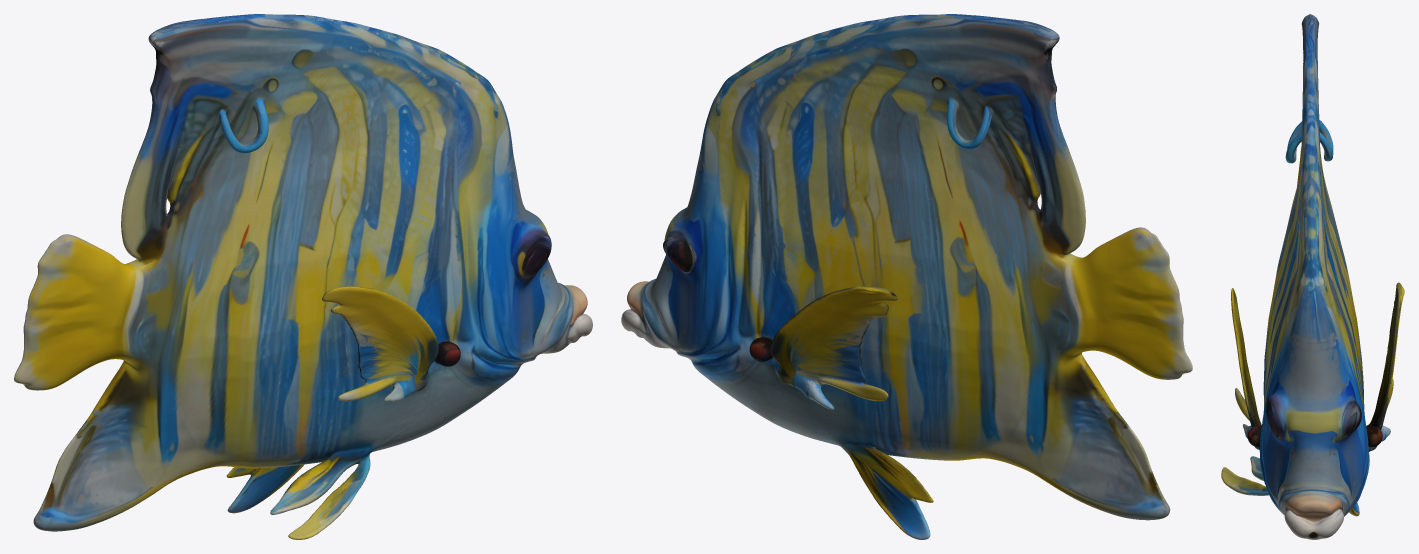
The model's file is trop_angel.glb.
3 renders of one model, left to right at view 1: azimuth 30°, elevation 25°; view 2: azimuth 150°, elevation 25°; view 3: azimuth 270°, elevation 25°, orthographic. The views are drawn at different scales.
Parts seen in each view (by area): view 1: tripo_node_ca2f4953-84b5-49e5-968c-fa0cdae2ac78; view 2: tripo_node_ca2f4953-84b5-49e5-968c-fa0cdae2ac78; view 3: tripo_node_ca2f4953-84b5-49e5-968c-fa0cdae2ac78.
Part boxes in pixels (left/top/right/bottom): tripo_node_ca2f4953-84b5-49e5-968c-fa0cdae2ac78: left=14, top=14, right=592, bottom=539; tripo_node_ca2f4953-84b5-49e5-968c-fa0cdae2ac78: left=621, top=14, right=1192, bottom=539; tripo_node_ca2f4953-84b5-49e5-968c-fa0cdae2ac78: left=1221, top=14, right=1404, bottom=539.
Size of the model in its own units: 1 by 0.8817 by 0.3225.
Materials: 1 (1 with a texture image).
